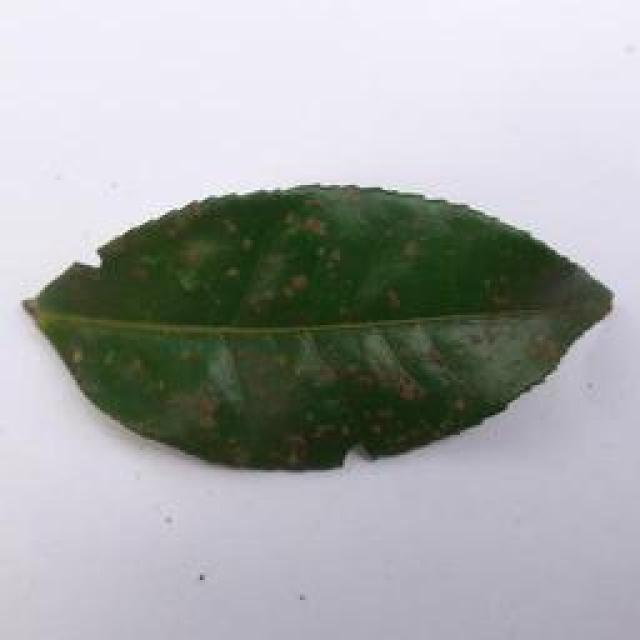Algal Leaf Spot: (24, 178, 616, 479)
